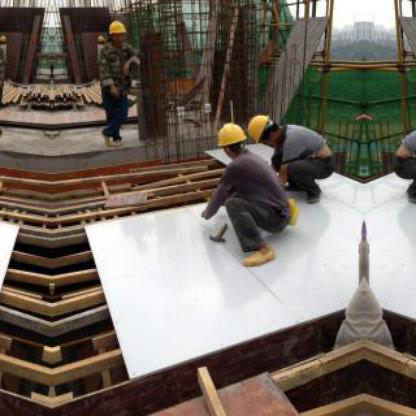helmet: (244, 112, 280, 149), (216, 121, 248, 158), (105, 20, 131, 43)
